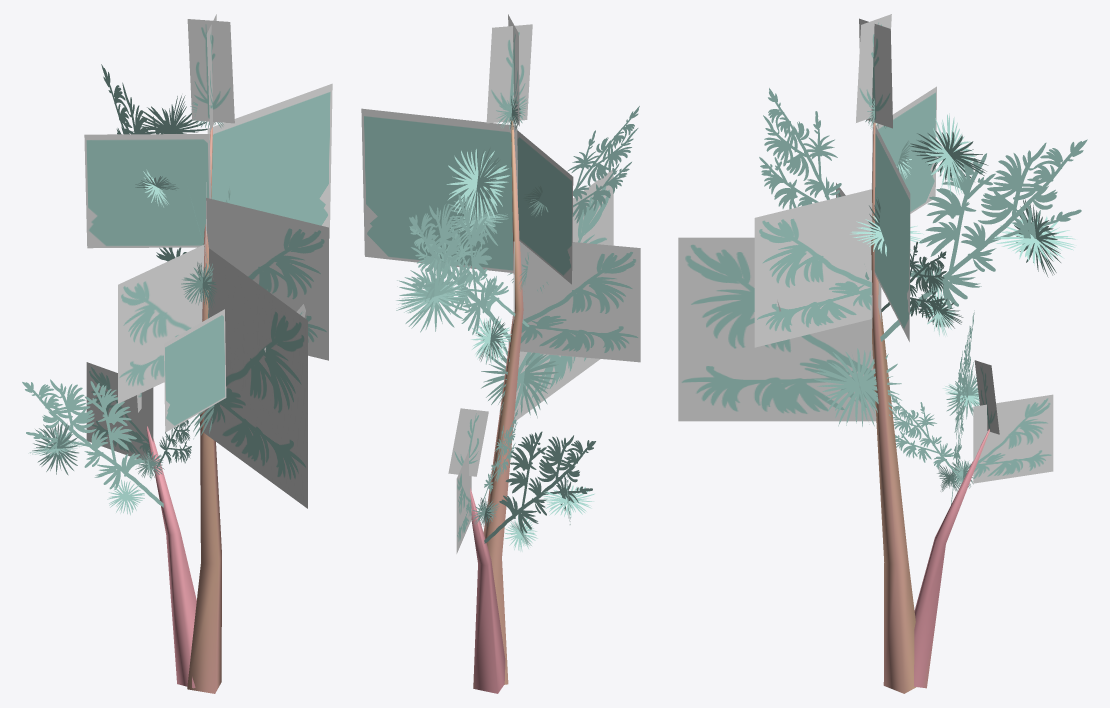
The model's file is filao_près.fbx.
The picture shows the model from 3 angles, left to right: view 1: azimuth 30°, elevation 25°; view 2: azimuth 150°, elevation 25°; view 3: azimuth 270°, elevation 25°; orthographic projection. The views are drawn at different scales.
Visible parts, largest first — view 1: closeup_folliage, closeup_truk; view 2: closeup_folliage, closeup_truk; view 3: closeup_folliage, closeup_truk.
Boxes of the visible parts, x1=… form: closeup_folliage: x1=22, y1=14, x2=332, y2=515; closeup_truk: x1=146, y1=127, x2=221, y2=693; closeup_folliage: x1=361, y1=14, x2=640, y2=553; closeup_truk: x1=470, y1=120, x2=523, y2=693; closeup_folliage: x1=678, y1=14, x2=1087, y2=504; closeup_truk: x1=871, y1=122, x2=989, y2=693.
Bounding box in the file's own units: 868 × 2000 × 1141.
